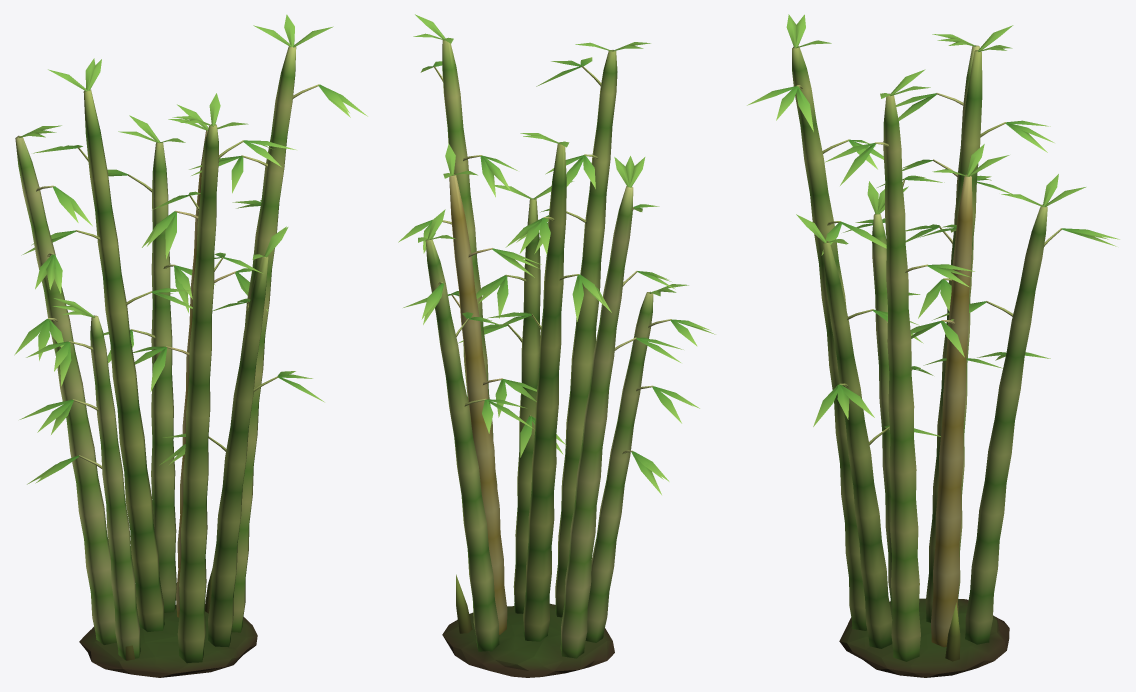
Rendered from bamboo_cluster.glb.
3 renders of one model, left to right at view 1: azimuth 30°, elevation 25°; view 2: azimuth 150°, elevation 25°; view 3: azimuth 270°, elevation 25°, orthographic. The views are drawn at different scales.
Parts seen in each view (by area): view 1: bamboo_cluster; view 2: bamboo_cluster; view 3: bamboo_cluster.
Boxes of the visible parts, x1,y1,x2,y2 form: bamboo_cluster: (14, 14, 367, 677); bamboo_cluster: (398, 14, 715, 677); bamboo_cluster: (747, 14, 1119, 677).
Bounding box in the file's own units: 2.29 × 4.16 × 2.31.
